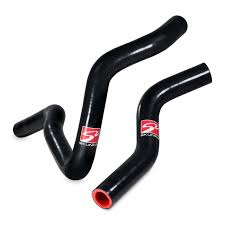radiator_hose: (14, 15, 187, 180), (93, 64, 213, 208)
